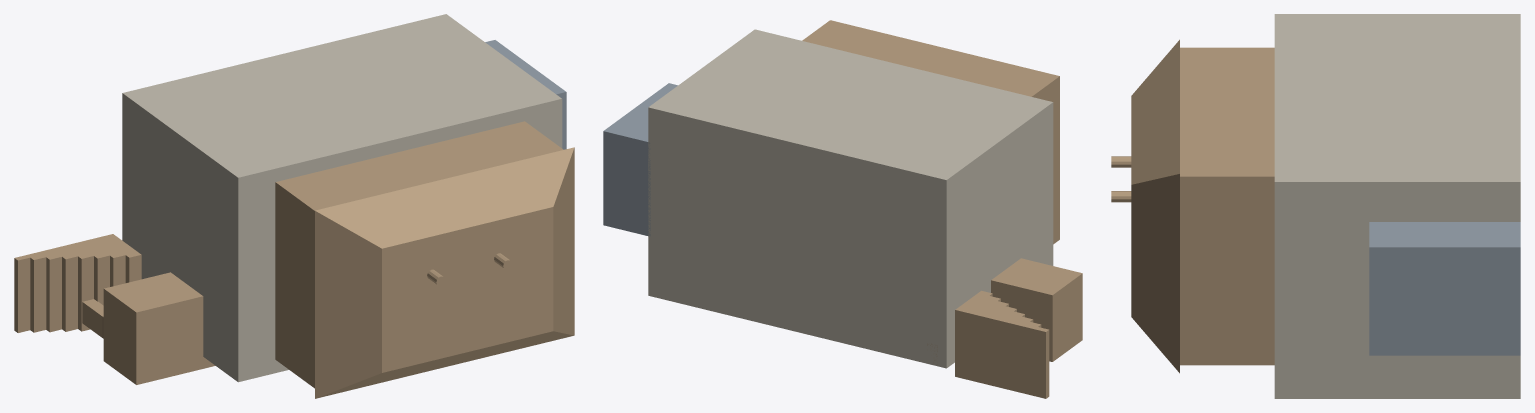
Rendered from romanov-1859-production-candidate-v1.glb.
3 views of the same model, side by side, from view 1: azimuth 30°, elevation 25°; view 2: azimuth 150°, elevation 25°; view 3: azimuth 270°, elevation 25° (orthographic). The views are drawn at different scales.
Visible parts, largest first — view 1: reconstructed__terem_roof, documented__stone_chamber, documented__lower_masonry, reconstructed__timber_terem, reconstructed__porch_upper, reconstructed__grand_stair_3, reconstructed__grand_stair_1, reconstructed__grand_stair_2, reconstructed__grand_stair_0, reconstructed__grand_stair_4, hypothesis__side_mass_pending_survey, reconstructed__grand_stair_5 (+3 smaller); view 2: documented__lower_masonry, documented__stone_chamber, reconstructed__timber_terem, hypothesis__side_mass_pending_survey, reconstructed__porch_upper, reconstructed__grand_stair_7, reconstructed__grand_stair_0, reconstructed__grand_stair_6, reconstructed__grand_stair_5, reconstructed__grand_stair_3, reconstructed__grand_stair_4, reconstructed__grand_stair_2 (+1 smaller); view 3: documented__stone_chamber, documented__lower_masonry, reconstructed__timber_terem, hypothesis__side_mass_pending_survey, reconstructed__terem_roof.
Part boxes in pixels (x1,y1,x2,y2): reconstructed__terem_roof: (315, 147, 574, 398); documented__stone_chamber: (186, 61, 562, 382); documented__lower_masonry: (122, 14, 509, 283); reconstructed__timber_terem: (275, 121, 563, 388); reconstructed__porch_upper: (103, 272, 215, 384); reconstructed__grand_stair_3: (52, 246, 77, 331); reconstructed__grand_stair_1: (27, 252, 46, 332); reconstructed__grand_stair_2: (39, 249, 61, 332); reconstructed__grand_stair_0: (14, 255, 30, 332); reconstructed__grand_stair_4: (64, 243, 93, 331); hypothesis__side_mass_pending_survey: (485, 40, 566, 149); reconstructed__grand_stair_5: (76, 240, 109, 305); documented__lower_masonry: (648, 64, 1005, 368); documented__stone_chamber: (707, 29, 1053, 269); reconstructed__timber_terem: (802, 20, 1059, 244); hypothesis__side_mass_pending_survey: (603, 83, 677, 236); reconstructed__porch_upper: (991, 258, 1082, 361); reconstructed__grand_stair_7: (955, 290, 992, 379); reconstructed__grand_stair_0: (1034, 327, 1049, 398); reconstructed__grand_stair_6: (966, 296, 1000, 382); reconstructed__grand_stair_5: (978, 301, 1008, 384); reconstructed__grand_stair_3: (1000, 311, 1024, 390); reconstructed__grand_stair_4: (989, 306, 1016, 387); reconstructed__grand_stair_2: (1012, 316, 1033, 393); documented__stone_chamber: (1274, 14, 1384, 398); documented__lower_masonry: (1385, 14, 1520, 398); reconstructed__timber_terem: (1180, 47, 1274, 365); hypothesis__side_mass_pending_survey: (1369, 222, 1520, 355); reconstructed__terem_roof: (1131, 39, 1179, 373).
Size of the model in its own units: 18.7 by 8.05 by 12.98.
